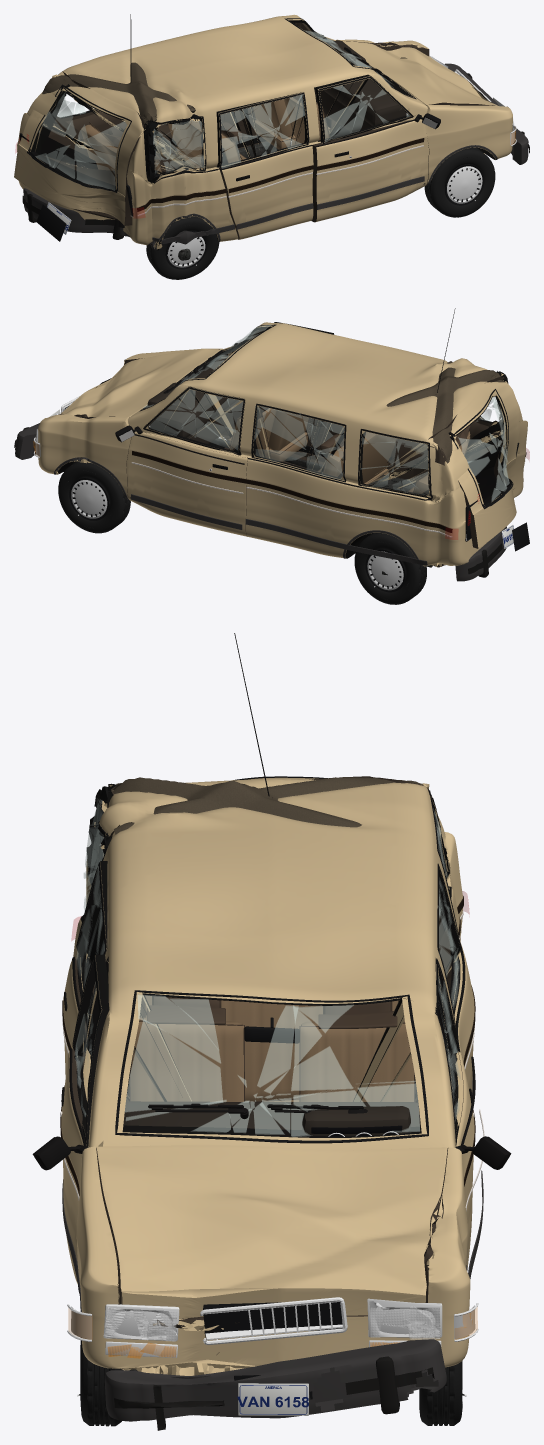
The model's file is minivan86_rear_corner_R_d1.glb.
The picture shows the model from 3 angles, top to bottom: view 1: azimuth 30°, elevation 25°; view 2: azimuth 150°, elevation 25°; view 3: azimuth 270°, elevation 25°; orthographic projection. The views are drawn at different scales.
Visible parts, largest first — view 1: Body, Interior, Door_FR, Liftgate, Door_SR, Glass_Liftgate, Hood, Wheel_FR_mesh, Glass, Glass_SR, Wheel_RR_mesh, Trim_FR (+8 smaller); view 2: Body, Door_FL, Interior, Glass, Liftgate, Trim, Hood, Wheel_FL_mesh, Wheel_RL_mesh, Glass_FL, Trim_FL, Glass_Liftgate (+5 smaller); view 3: Body, Hood, Interior, Glass, Ends, Bumper_F, Door_FR, Trim, Lamps_Head, Door_FL, Trim_FR, Trim_FL (+6 smaller).
Part boxes in pixels (left/top/right/bottom): Body: left=17, top=14, right=512, bottom=250; Interior: left=81, top=40, right=406, bottom=172; Door_FR: left=311, top=74, right=428, bottom=222; Liftgate: left=14, top=71, right=149, bottom=225; Door_SR: left=216, top=92, right=313, bottom=239; Glass_Liftgate: left=27, top=84, right=131, bottom=192; Hood: left=343, top=41, right=497, bottom=105; Wheel_FR_mesh: left=424, top=147, right=495, bottom=217; Glass: left=58, top=18, right=416, bottom=182; Glass_SR: left=218, top=94, right=308, bottom=169; Wheel_RR_mesh: left=146, top=216, right=219, bottom=279; Trim_FR: left=315, top=76, right=440, bottom=209; Body: left=38, top=322, right=527, bottom=567; Door_FL: left=126, top=386, right=247, bottom=536; Interior: left=147, top=357, right=470, bottom=493; Glass: left=139, top=324, right=508, bottom=498; Liftgate: left=427, top=372, right=519, bottom=548; Trim: left=54, top=308, right=526, bottom=566; Hood: left=61, top=348, right=220, bottom=417; Wheel_FL_mesh: left=58, top=461, right=130, bottom=533; Wheel_RL_mesh: left=354, top=533, right=426, bottom=604; Glass_FL: left=148, top=386, right=245, bottom=455; Trim_FL: left=115, top=387, right=246, bottom=529; Glass_Liftgate: left=450, top=389, right=513, bottom=509; Body: left=73, top=777, right=474, bottom=1375; Hood: left=96, top=1145, right=447, bottom=1326; Interior: left=123, top=995, right=420, bottom=1136; Glass: left=84, top=786, right=459, bottom=1143; Ends: left=67, top=1297, right=478, bottom=1415; Bumper_F: left=104, top=1339, right=446, bottom=1430; Door_FR: left=61, top=954, right=109, bottom=1284; Trim: left=72, top=633, right=475, bottom=1312; Lamps_Head: left=103, top=1306, right=440, bottom=1341; Door_FL: left=435, top=957, right=474, bottom=1269; Trim_FR: left=32, top=955, right=101, bottom=1282; Trim_FL: left=436, top=958, right=511, bottom=1278.
Size of the model in its own units: 4.56 by 2.37 by 2.07.
Materials: 34 (5 with a texture image).
